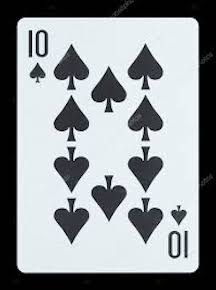TenOfSpades: (12, 12, 202, 276)
